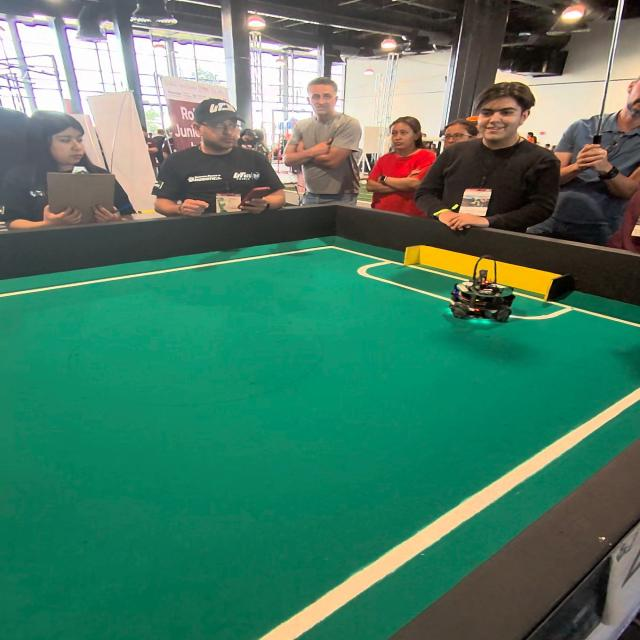Robot: (450, 253, 519, 326)
